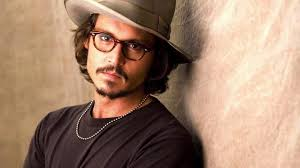Glasses: (86, 26, 151, 63)
